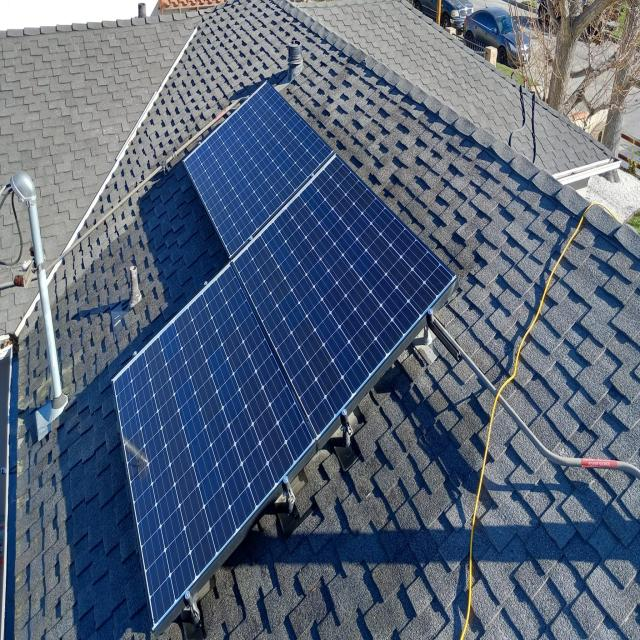clean-solar-panel: (114, 84, 456, 636)
